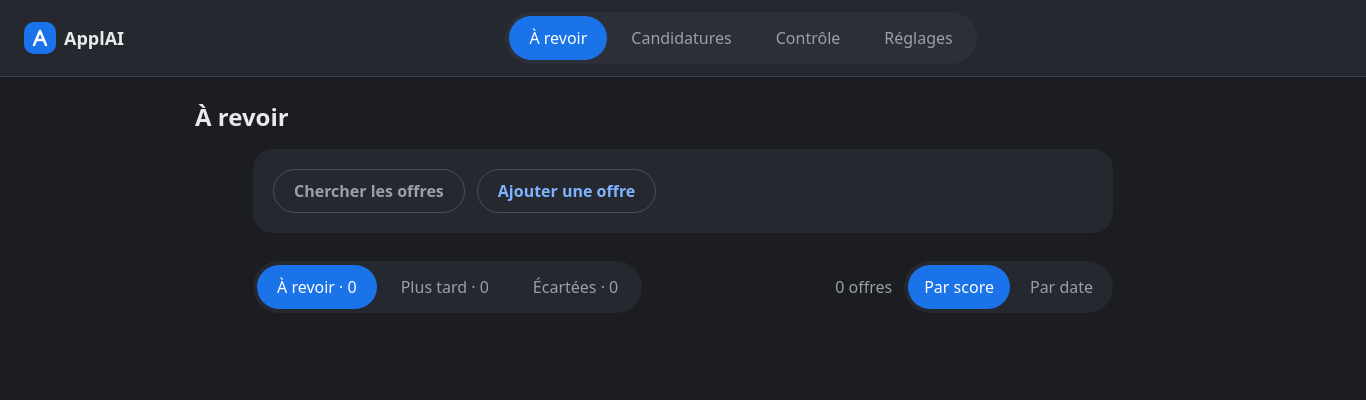
Test: the shell › sets the theme and the language on Réglages, not in the header
Expected: the button "Jour" is not shown
Expected: the button "English" is not shown
Click the button "Réglages" at (919, 38), box 864,16 -> 973,60
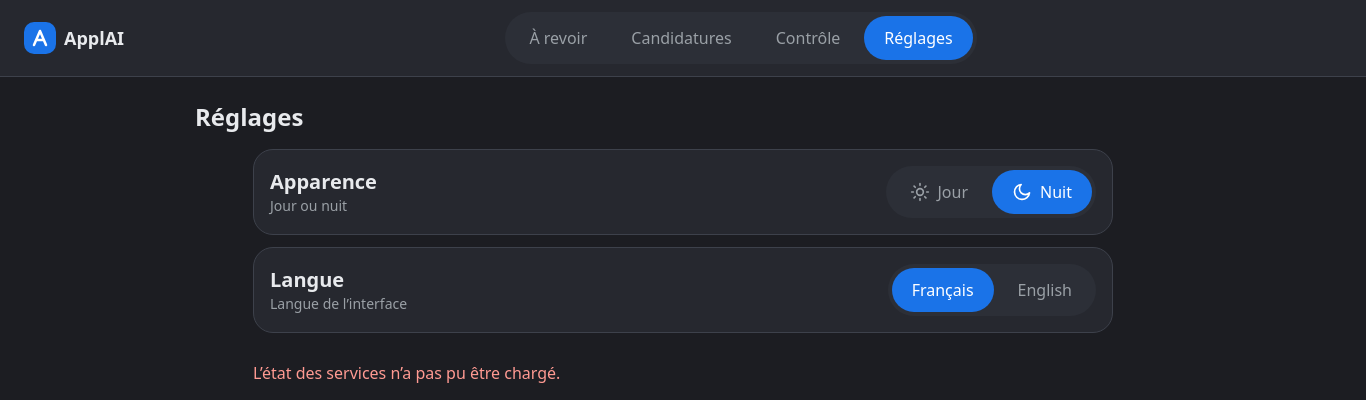
Result: the button "Jour" is shown at 890,170 -> 988,214
Result: the button "English" is shown at 998,268 -> 1092,312
